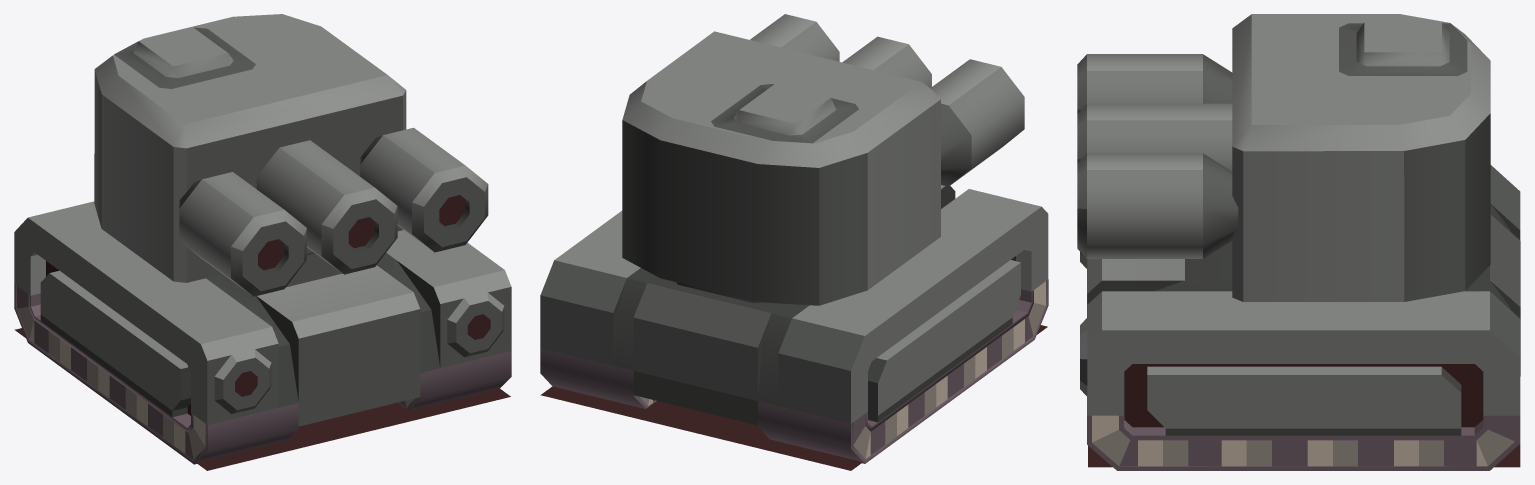
File: MegaTankMesh.GreySky.glb
3 views of the same model, side by side, from view 1: azimuth 30°, elevation 25°; view 2: azimuth 150°, elevation 25°; view 3: azimuth 270°, elevation 25° (orthographic). The views are drawn at different scales.
Visible parts, largest first — view 1: MegaTankMesh.GreySky; view 2: MegaTankMesh.GreySky; view 3: MegaTankMesh.GreySky.
Part boxes in pixels (box(x1,y1,x2,y2)): MegaTankMesh.GreySky: box(14, 14, 511, 470); MegaTankMesh.GreySky: box(540, 14, 1048, 470); MegaTankMesh.GreySky: box(1077, 14, 1520, 470).
Size of the model in its own units: 2 by 1.86 by 2.25.
1 material, 1 textured.
